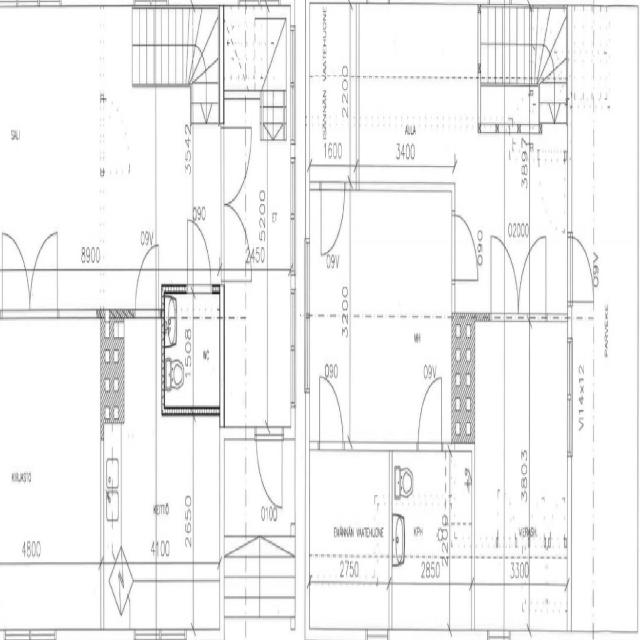door: (518, 235, 546, 322), (2, 231, 30, 317), (491, 235, 518, 322), (30, 231, 57, 317), (221, 204, 251, 280), (221, 128, 251, 204), (256, 426, 282, 512), (567, 233, 596, 302), (135, 242, 159, 318), (451, 215, 478, 280), (321, 181, 344, 256), (418, 376, 441, 451), (320, 377, 343, 451), (188, 221, 210, 293)
